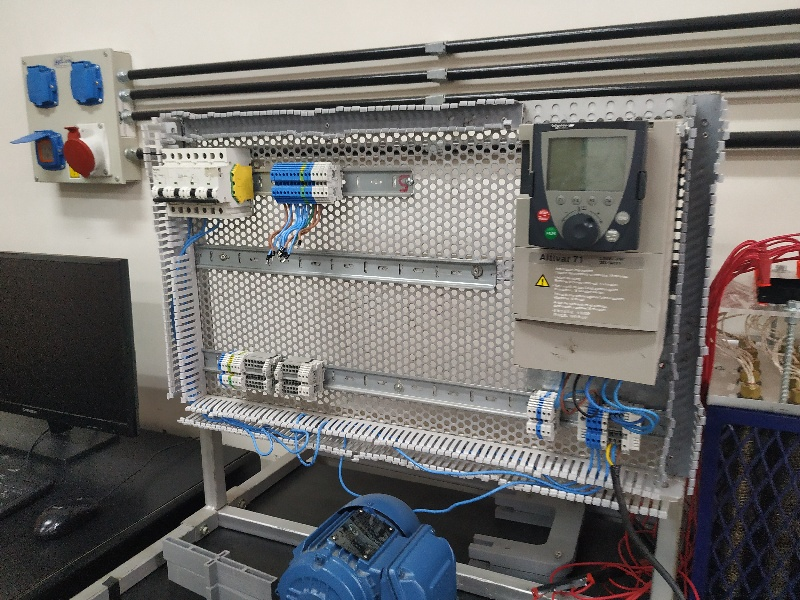Tablero 0: (149, 119, 698, 511)
